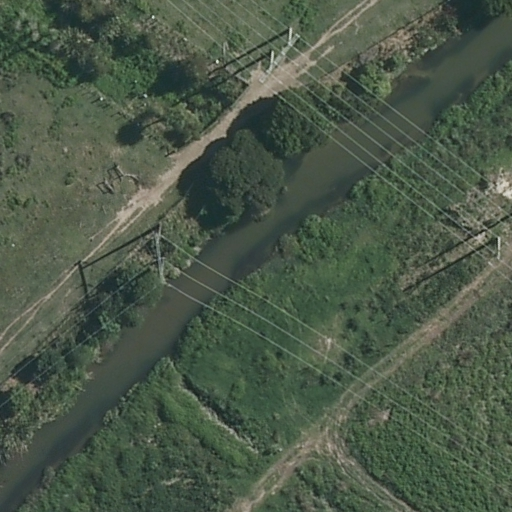DT: (149, 228, 168, 287), (264, 47, 278, 76), (494, 235, 504, 262), (285, 25, 294, 48)
